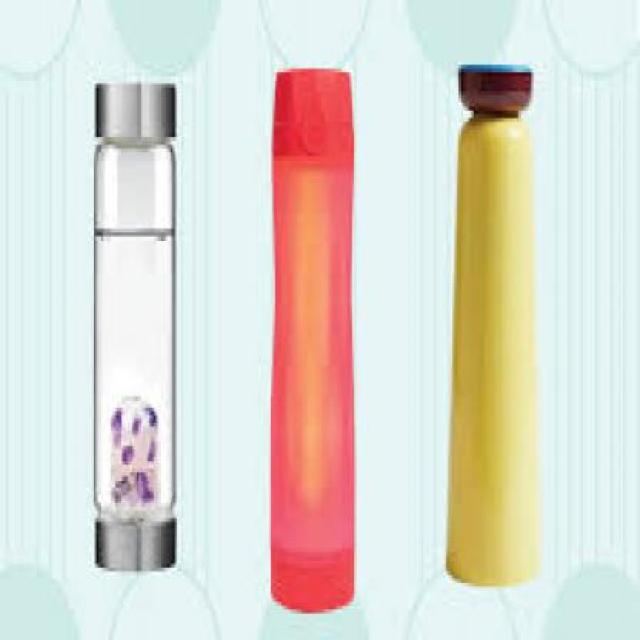Drinking: (70, 53, 205, 602), (439, 46, 558, 583), (254, 42, 363, 606)
